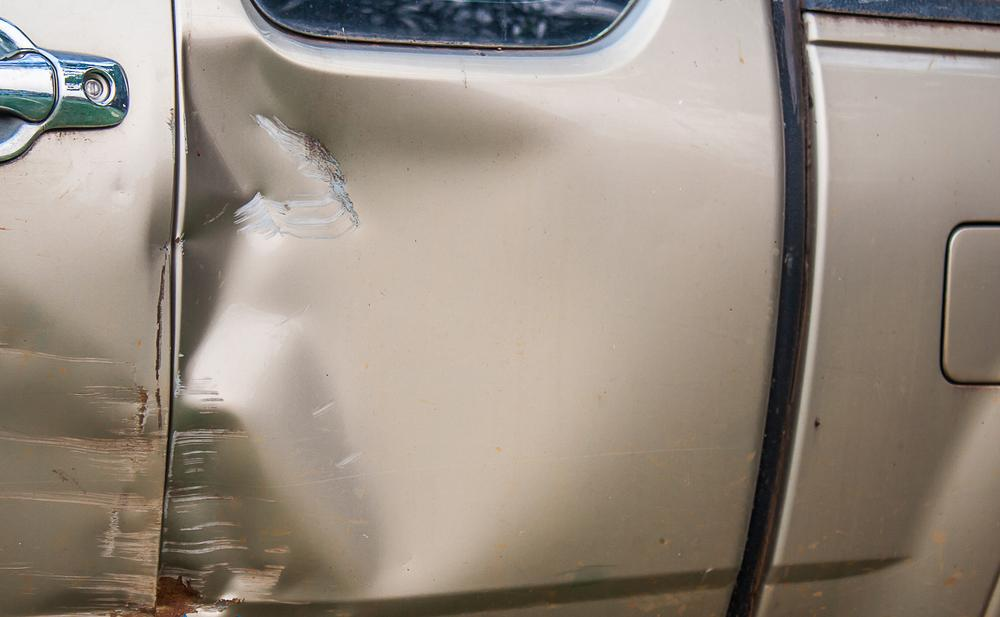dent: (0, 278, 173, 617)
scratch: (155, 35, 572, 617)
